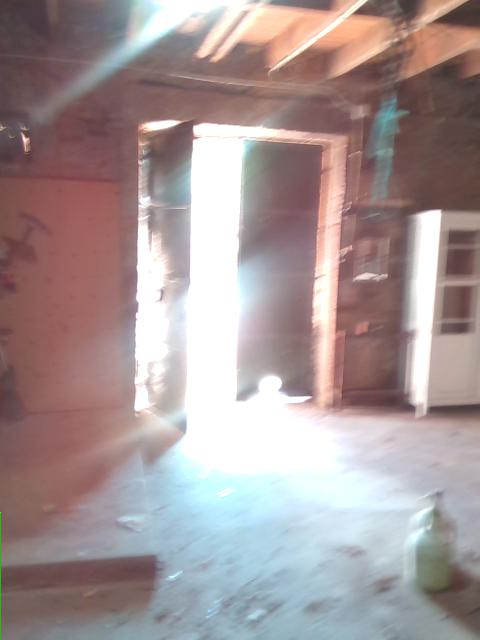semi_door: (121, 115, 349, 437)
